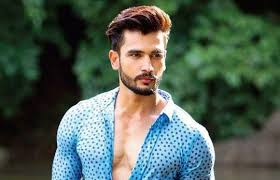Indian_Male: (117, 19, 170, 98)
